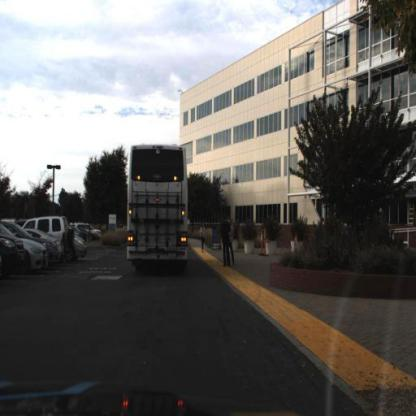car: (31, 213, 78, 256), (3, 227, 30, 280), (1, 229, 25, 276), (42, 215, 76, 245), (25, 238, 48, 274), (75, 220, 108, 243), (71, 231, 88, 266), (77, 229, 91, 261), (47, 243, 61, 268)
pedestrian: (406, 197, 416, 267), (221, 214, 232, 268), (198, 219, 210, 258), (230, 219, 238, 267), (313, 216, 329, 234)
truck: (124, 135, 194, 277)
